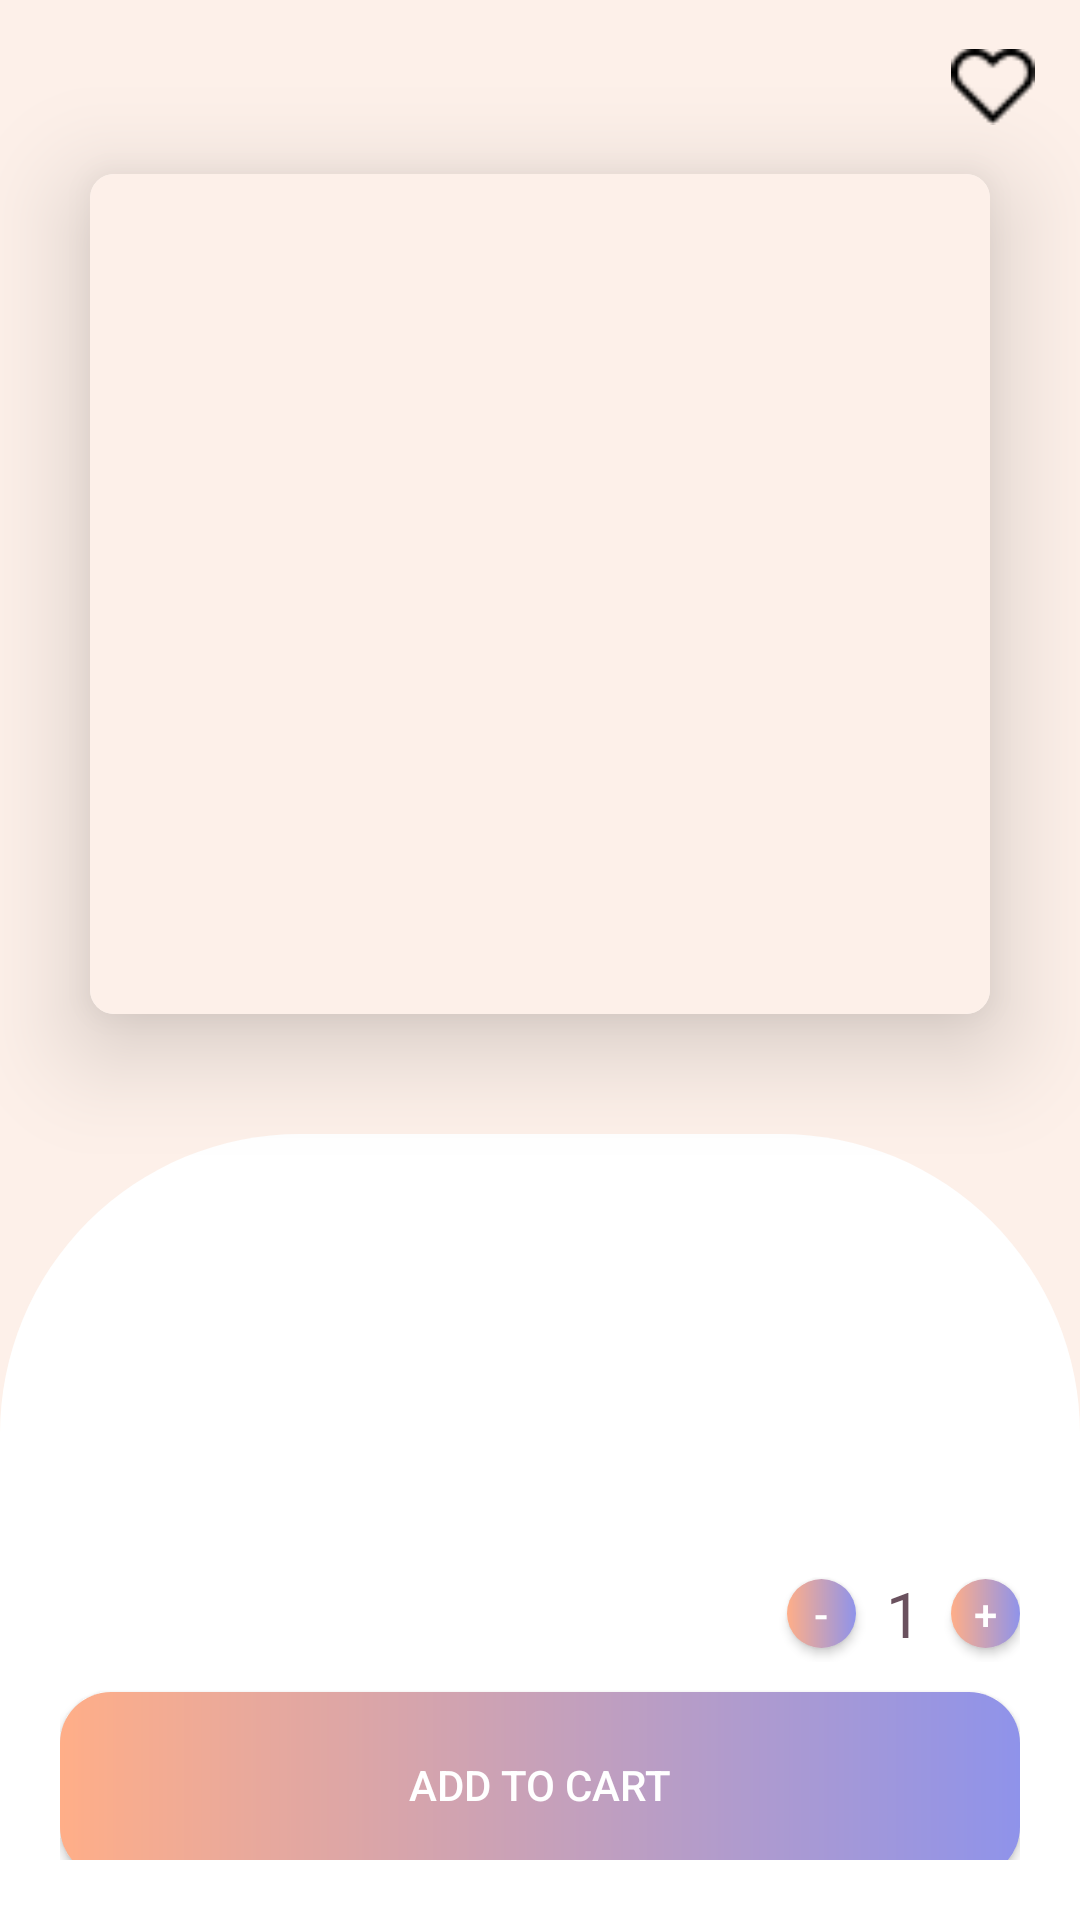

Locate icon controls on the screen. Image size 1080 × 1920, boxes as BBox(x1, y1, x2, y2).
heart: BBox(951, 49, 1035, 125)
